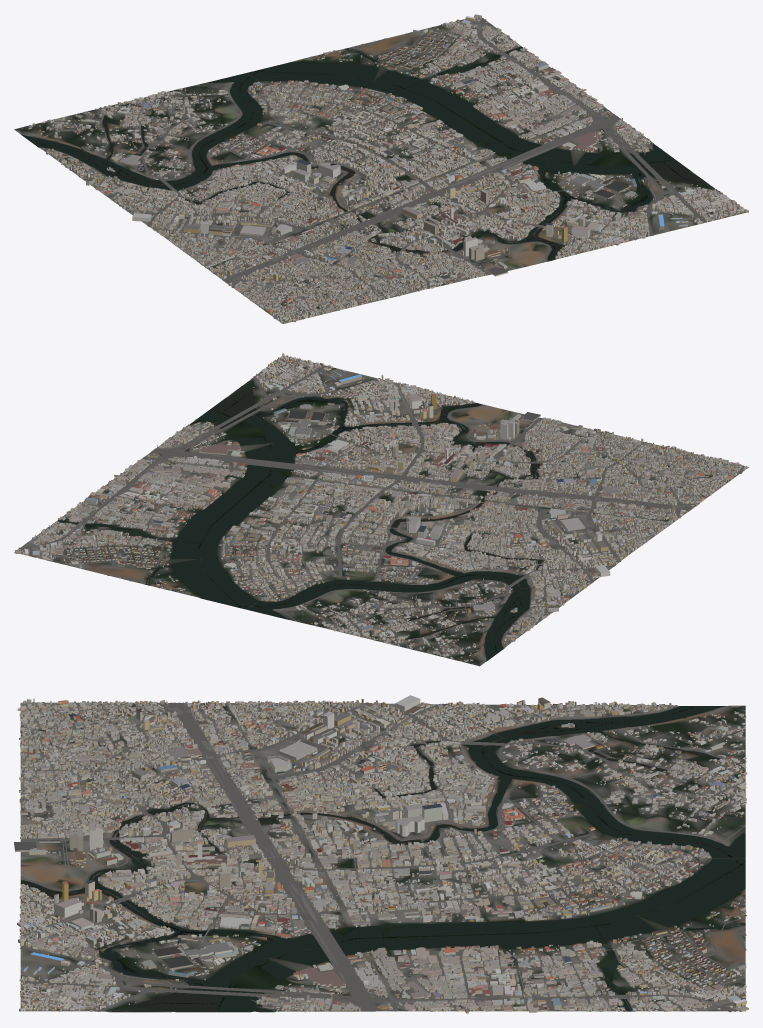
3 views of the same model, one above another, from view 1: azimuth 30°, elevation 25°; view 2: azimuth 150°, elevation 25°; view 3: azimuth 270°, elevation 25° (orthographic). The views are drawn at different scales.
Visible parts, largest first — view 1: buildings, ground, water, roads; view 2: buildings, ground, water, roads; view 3: buildings, ground, water, roads.
Part boxes in pixels (x1,y1,x2,y2): buildings: (28,14,748,323); ground: (14,17,746,323); water: (21,46,714,261); roads: (32,18,732,323); buildings: (15,353,747,662); ground: (14,356,748,666); water: (57,380,542,661); roads: (18,362,744,660); buildings: (14,695,748,1013); ground: (20,702,745,1012); water: (21,706,745,1012); roads: (19,702,746,1012).
Bounding box in the file's own units: 2857 × 90.34 × 2840.
